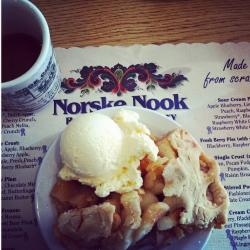apple_pie: (40, 131, 232, 240)
icecream: (55, 108, 129, 188)
